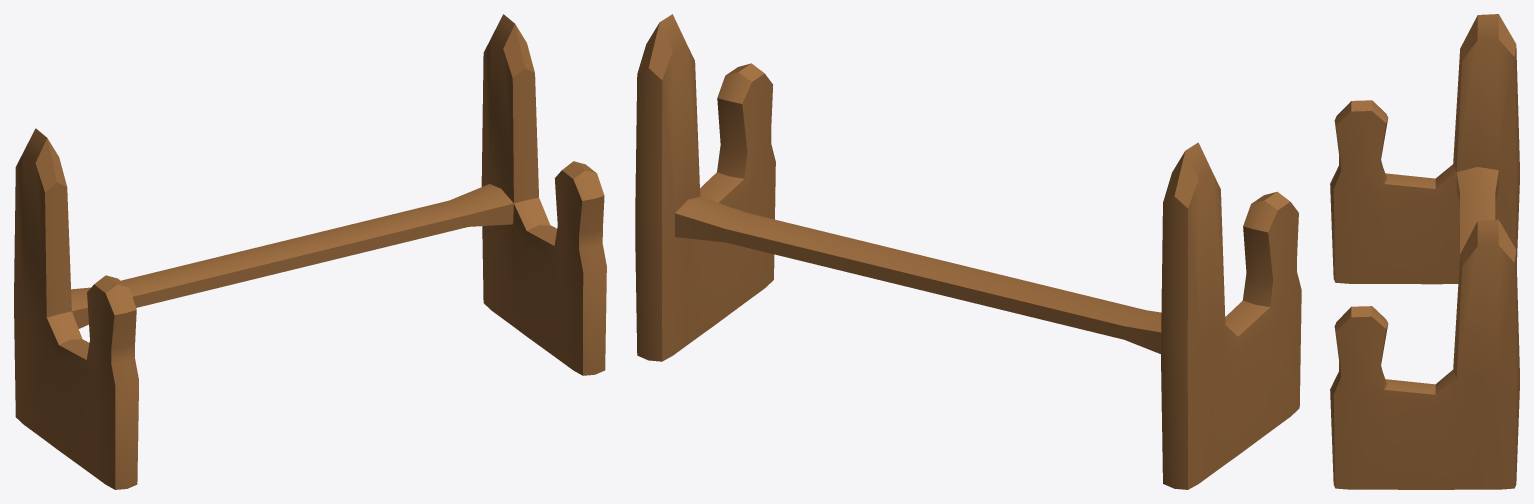
The model's file is handle3.fbx.
3 views of the same model, side by side, from view 1: azimuth 30°, elevation 25°; view 2: azimuth 150°, elevation 25°; view 3: azimuth 270°, elevation 25° (orthographic). The views are drawn at different scales.
Visible parts, largest first — view 1: Plane.031; view 2: Plane.031; view 3: Plane.031.
Part boxes in pixels (x1,y1,x2,y2): Plane.031: (14,14,606,489); Plane.031: (635,14,1301,489); Plane.031: (1330,14,1519,489).
Bounding box in the file's own units: 570 × 325 × 210.
